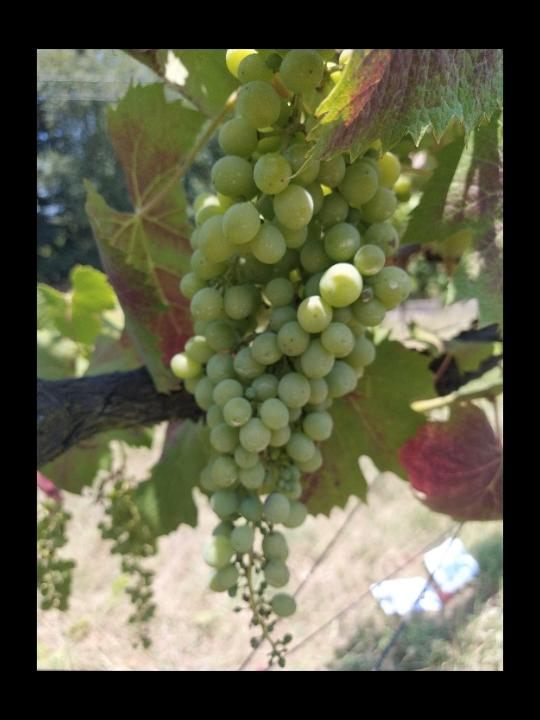grape: (169, 53, 413, 668)
